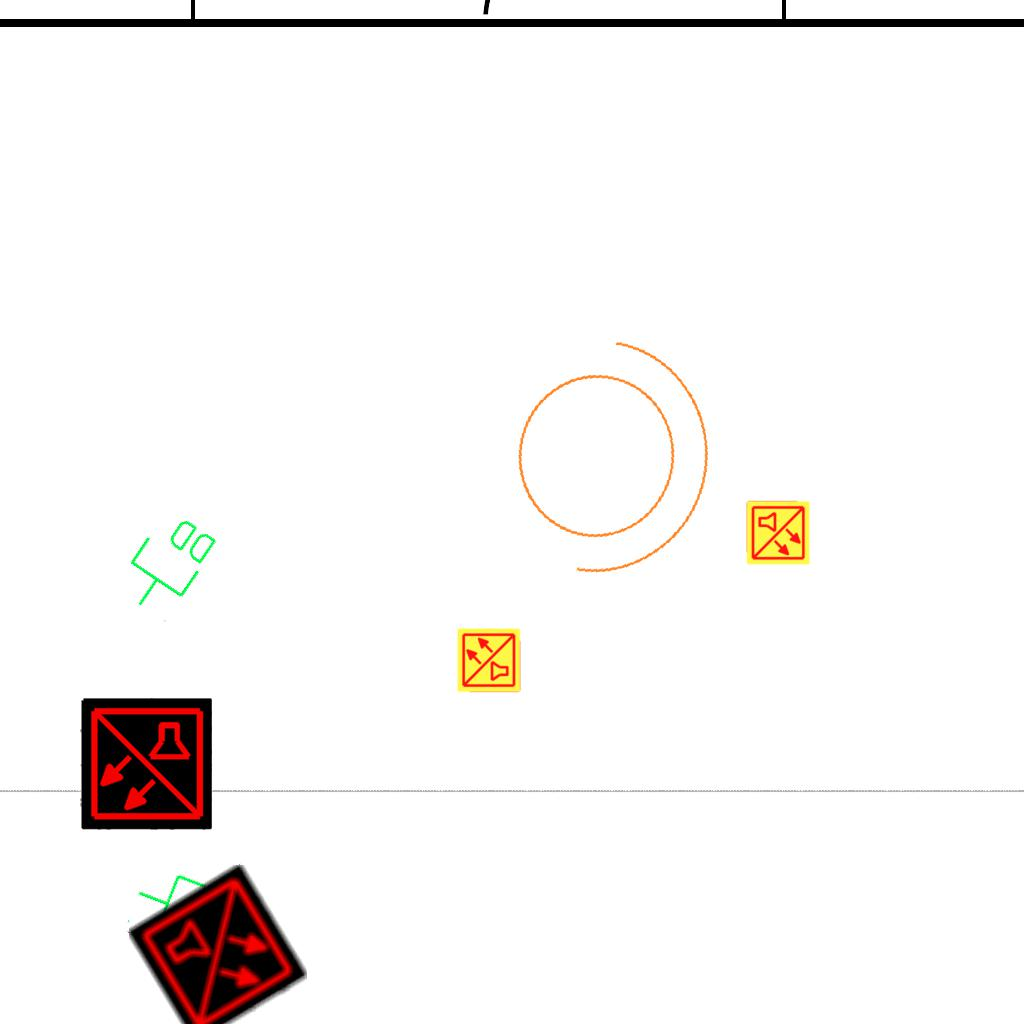Datenanschluss_zweifach: (110, 502, 225, 627)
OKW_Multisensormelder_(Kombination_optischer_Rauch-Kahlenmonoxid_Waerme-Melder): (127, 863, 309, 1024), (80, 698, 212, 830), (456, 627, 522, 693), (745, 500, 811, 566)
Scheinwerfer_fuer_Alarmbeleuchtung: (473, 301, 741, 602)
WLAN: (113, 851, 249, 988)
